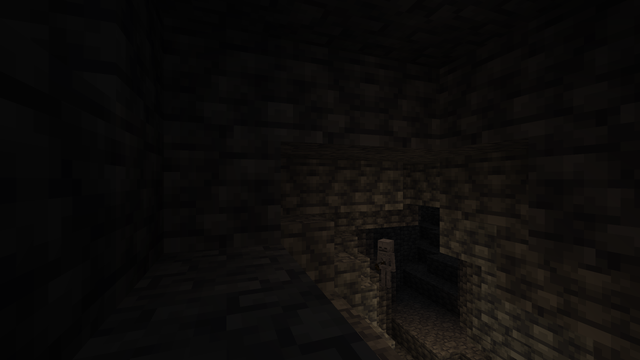squelettes: (376, 238, 395, 289)
